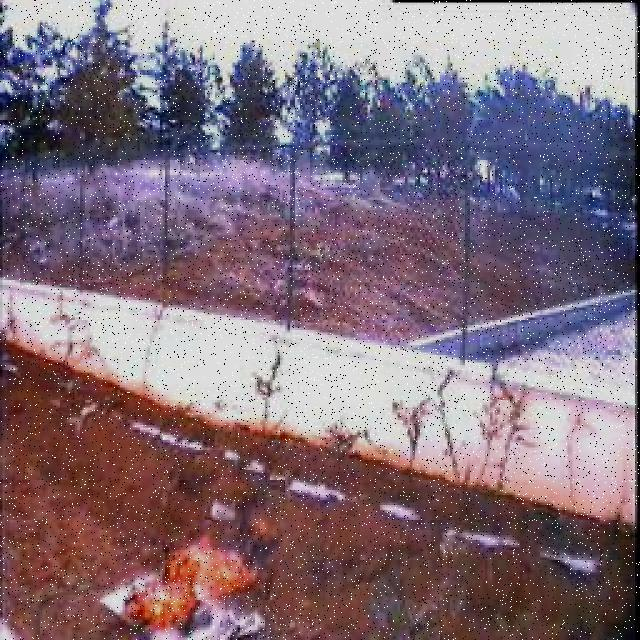Fire: (116, 518, 276, 633)
